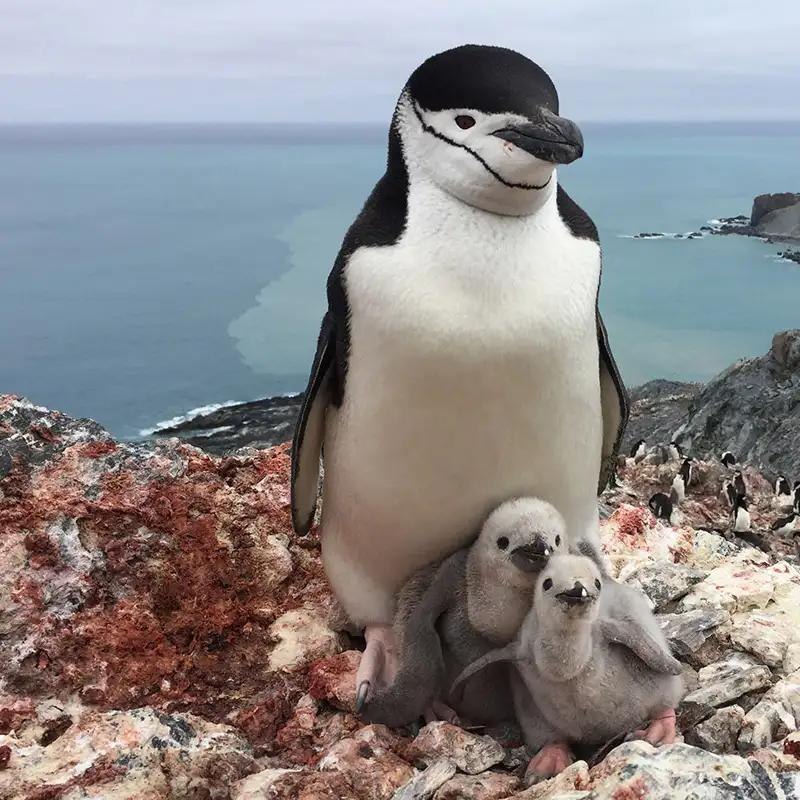Penguin: (292, 47, 624, 700), (453, 555, 682, 780), (361, 497, 567, 725)
